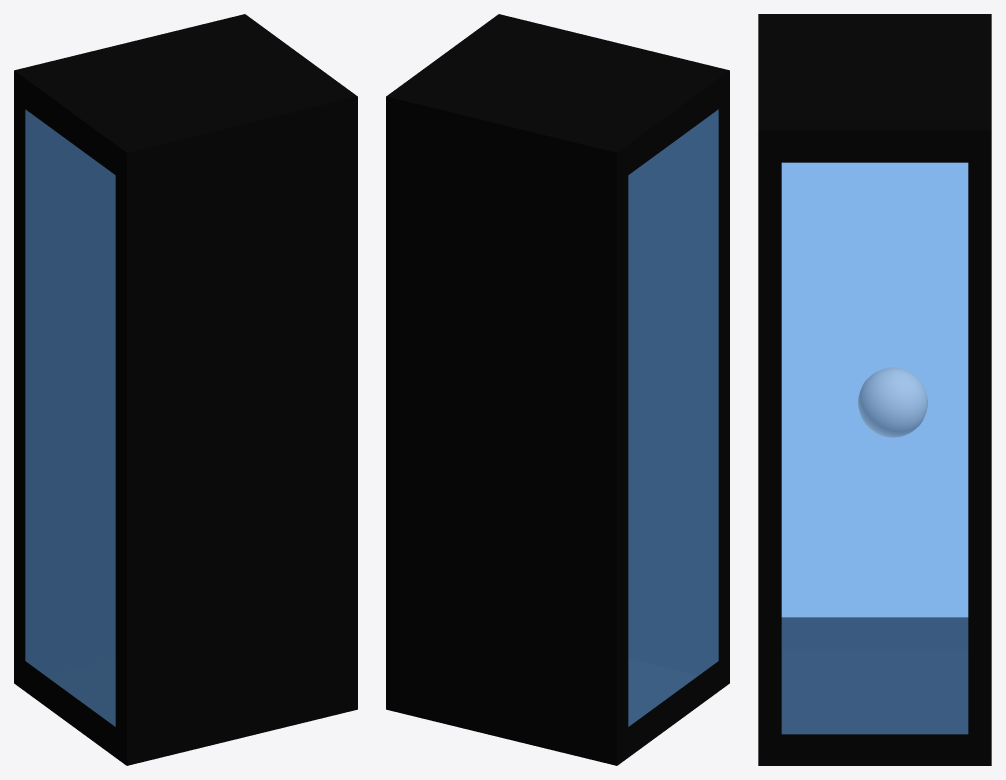
Rendered from server1.5p.fbx.
The picture shows the model from 3 angles, left to right: view 1: azimuth 30°, elevation 25°; view 2: azimuth 150°, elevation 25°; view 3: azimuth 270°, elevation 25°; orthographic projection. The views are drawn at different scales.
Parts seen in each view (by area): view 1: pCube1; view 2: pCube1; view 3: pCube1, pSphere1.
Boxes of the visible parts, x1,y1,x2,y2 form: pCube1: (14,14,357,765); pCube1: (386,14,729,765); pCube1: (758,14,991,765); pSphere1: (858,367,927,437).
Size of the model in its own units: 7.89 by 20 by 6.66.
